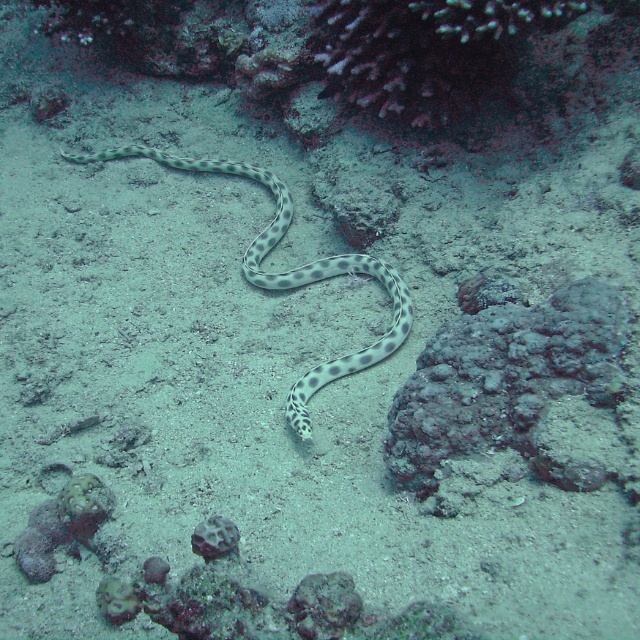Snake: (58, 144, 415, 442)
